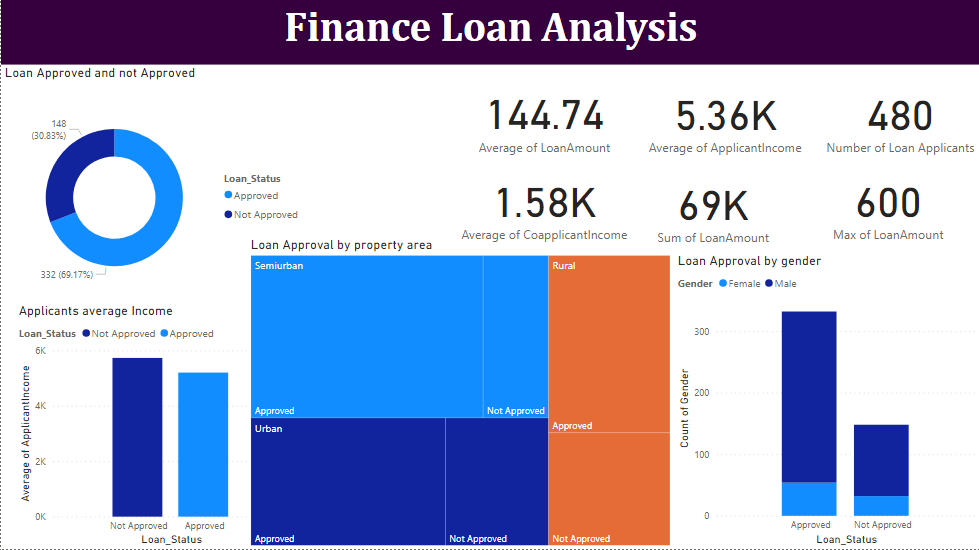

The dashboard page shown, as its layout file describes it:
{"tool":"powerbi","page":{"name":"Page 1","canvas":[1280,720],"ordinal":0},"visuals":[{"type":"textbox","box":[0,0,1280,87.3],"z":0},{"type":"card","fields":{"Values":["CountNonNull(train.Gender)"]},"box":[1070,87.3,210,137.7],"z":1},{"type":"card","fields":{"Values":["Avg(train.ApplicantIncome)"]},"box":[821.4,87.3,248.6,137.7],"z":2},{"type":"card","fields":{"Values":["Avg(train.LoanAmount)"]},"box":[584.6,94.1,252,124.3],"z":3},{"type":"donutChart","title":"Loan Approved and not Approved","fields":{"Y":["CountNonNull(train.Loan_Status)"],"Category":["train.Loan_Status"]},"box":[0,87.3,403.1,327.6],"z":5},{"type":"columnChart","title":"Applicants average Income","fields":{"Category":["train.Loan_Status"],"Y":["Avg(train.ApplicantIncome)"],"Series":["train.Loan_Status"]},"box":[18.5,398.1,364.5,322.5],"z":7},{"type":"treemap","title":"Loan Approval by property area","fields":{"Group":["train.Property_Area"],"Details":["train.Loan_Status"],"Values":["CountNonNull(train.Loan_Status)"]},"box":[320.8,312.4,557.7,408.2],"z":8},{"type":"columnChart","title":"Loan Approval by gender","fields":{"Category":["train.Loan_Status"],"Y":["CountNonNull(train.Gender)"],"Series":["train.Gender"]},"box":[879.5,333.1,400.5,386.8],"z":9},{"type":"card","fields":{"Values":["Avg(train.CoapplicantIncome)"]},"box":[583.6,209.2,251.9,123.9],"z":10},{"type":"card","fields":{"Values":["Sum(train.LoanAmount)"]},"box":[821.7,224.3,217.5,99.1],"z":11},{"type":"card","fields":{"Values":["Max(train.LoanAmount)"]},"box":[1039.1,213.3,240.9,115.6],"z":12}]}

Visuals, with their boxes in screenshot pixels (x1, y1, x2, y2), scaled from the page's 1280x720 canvas onto the 979x550 screenshot:
textbox: region(0, 0, 978, 67)
card - CountNonNull(train.Gender): region(818, 67, 978, 172)
card - Avg(train.ApplicantIncome): region(628, 67, 818, 172)
card - Avg(train.LoanAmount): region(447, 72, 640, 167)
"Loan Approved and not Approved" donutChart: region(0, 67, 308, 317)
"Applicants average Income" columnChart: region(14, 304, 293, 549)
"Loan Approval by property area" treemap: region(245, 239, 672, 549)
"Loan Approval by gender" columnChart: region(673, 254, 978, 549)
card - Avg(train.CoapplicantIncome): region(446, 160, 639, 254)
card - Sum(train.LoanAmount): region(628, 171, 795, 247)
card - Max(train.LoanAmount): region(795, 163, 978, 251)
